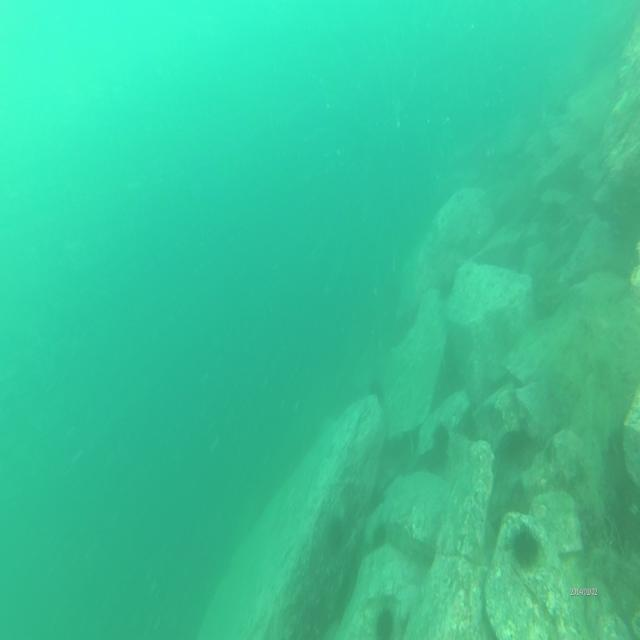echinus: (510, 522, 543, 574)
